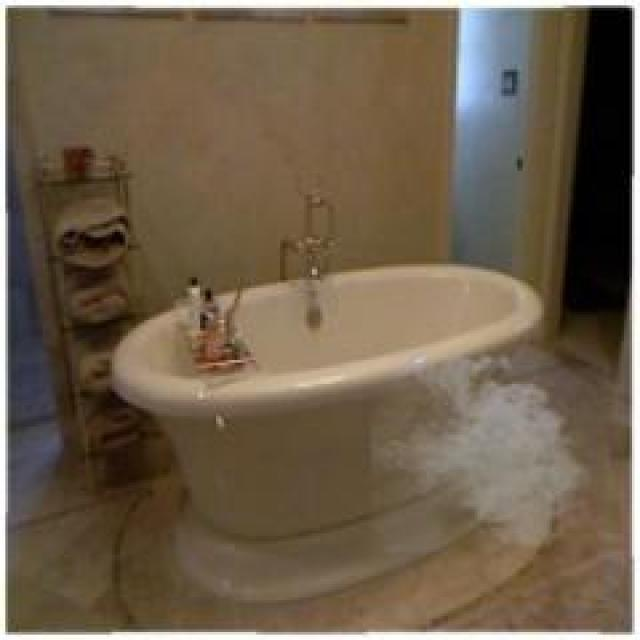Smoke: (372, 346, 620, 558)
